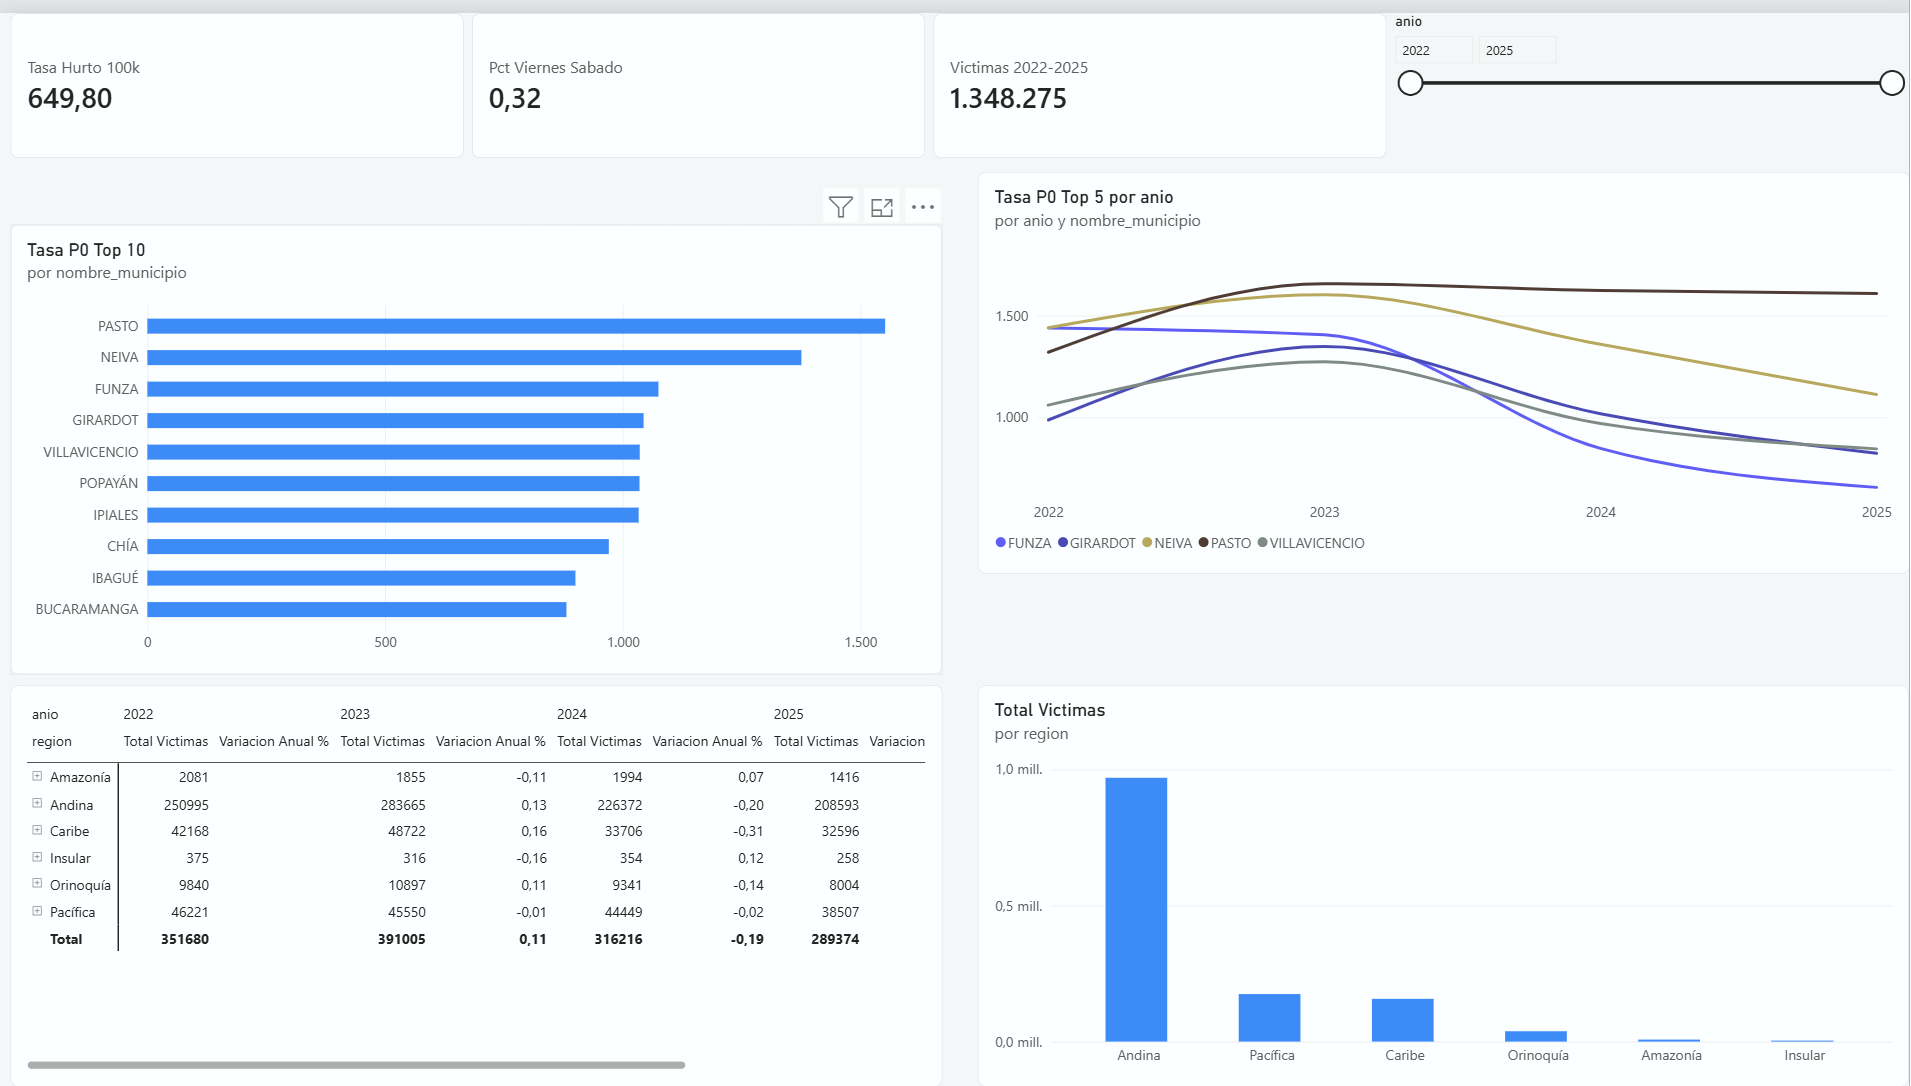

The dashboard page shown, as its layout file describes it:
{"tool":"powerbi","page":{"name":"Página 1","canvas":[1920,1080],"ordinal":0},"visuals":[{"type":"cardVisual","fields":{"Data":["dw fact_hurto_personas.Tasa Hurto 100k","dw fact_hurto_personas.Pct Viernes Sabado","dw fact_hurto_personas.Victimas 2022-2025"]},"box":[10.6,0,1384.9,146.3],"z":0},{"type":"clusteredBarChart","fields":{"Category":["dw dim_municipio.nombre_municipio"],"Y":["dw fact_hurto_personas.Tasa P0 Top 10"]},"box":[10.6,212.7,936.9,452.6],"z":1},{"type":"lineChart","fields":{"Category":["dw dim_tiempo.anio"],"Series":["dw dim_municipio.nombre_municipio"],"Y":["dw fact_hurto_personas.Tasa P0 Top 5 por anio"]},"box":[983.6,159.9,937,404],"z":2},{"type":"pivotTable","fields":{"Columns":["dw dim_tiempo.anio"],"Rows":["dw dim_municipio.region","dw dim_municipio.nombre_departamento"],"Values":["dw fact_hurto_personas.Total Victimas","dw fact_hurto_personas.Variacion Anual %"]},"box":[11,676,937,404],"z":3},{"type":"clusteredColumnChart","fields":{"Category":["dw dim_municipio.region"],"Y":["dw fact_hurto_personas.Total Victimas"]},"box":[984,676,936,404],"z":4},{"type":"slicer","fields":{"Values":["dw dim_tiempo.anio"]},"box":[1396,0,524,150],"z":5}]}

Visuals, with their boxes in screenshot pixels (x1, y1, x2, y2), scaled from the page's 1920x1080 canvas onto the 1911x1086 screenshot:
cardVisual - dw fact_hurto_personas.Tasa Hurto 100k x dw fact_hurto_personas.Pct Viernes Sabado: box=[11, 0, 1389, 147]
clusteredBarChart - dw dim_municipio.nombre_municipio x dw fact_hurto_personas.Tasa P0 Top 10: box=[11, 214, 943, 669]
lineChart - dw dim_tiempo.anio x dw dim_municipio.nombre_municipio: box=[979, 161, 1910, 567]
pivotTable - dw dim_tiempo.anio x dw dim_municipio.region: box=[11, 680, 944, 1085]
clusteredColumnChart - dw dim_municipio.region x dw fact_hurto_personas.Total Victimas: box=[979, 680, 1910, 1085]
slicer - dw dim_tiempo.anio: box=[1389, 0, 1910, 151]
